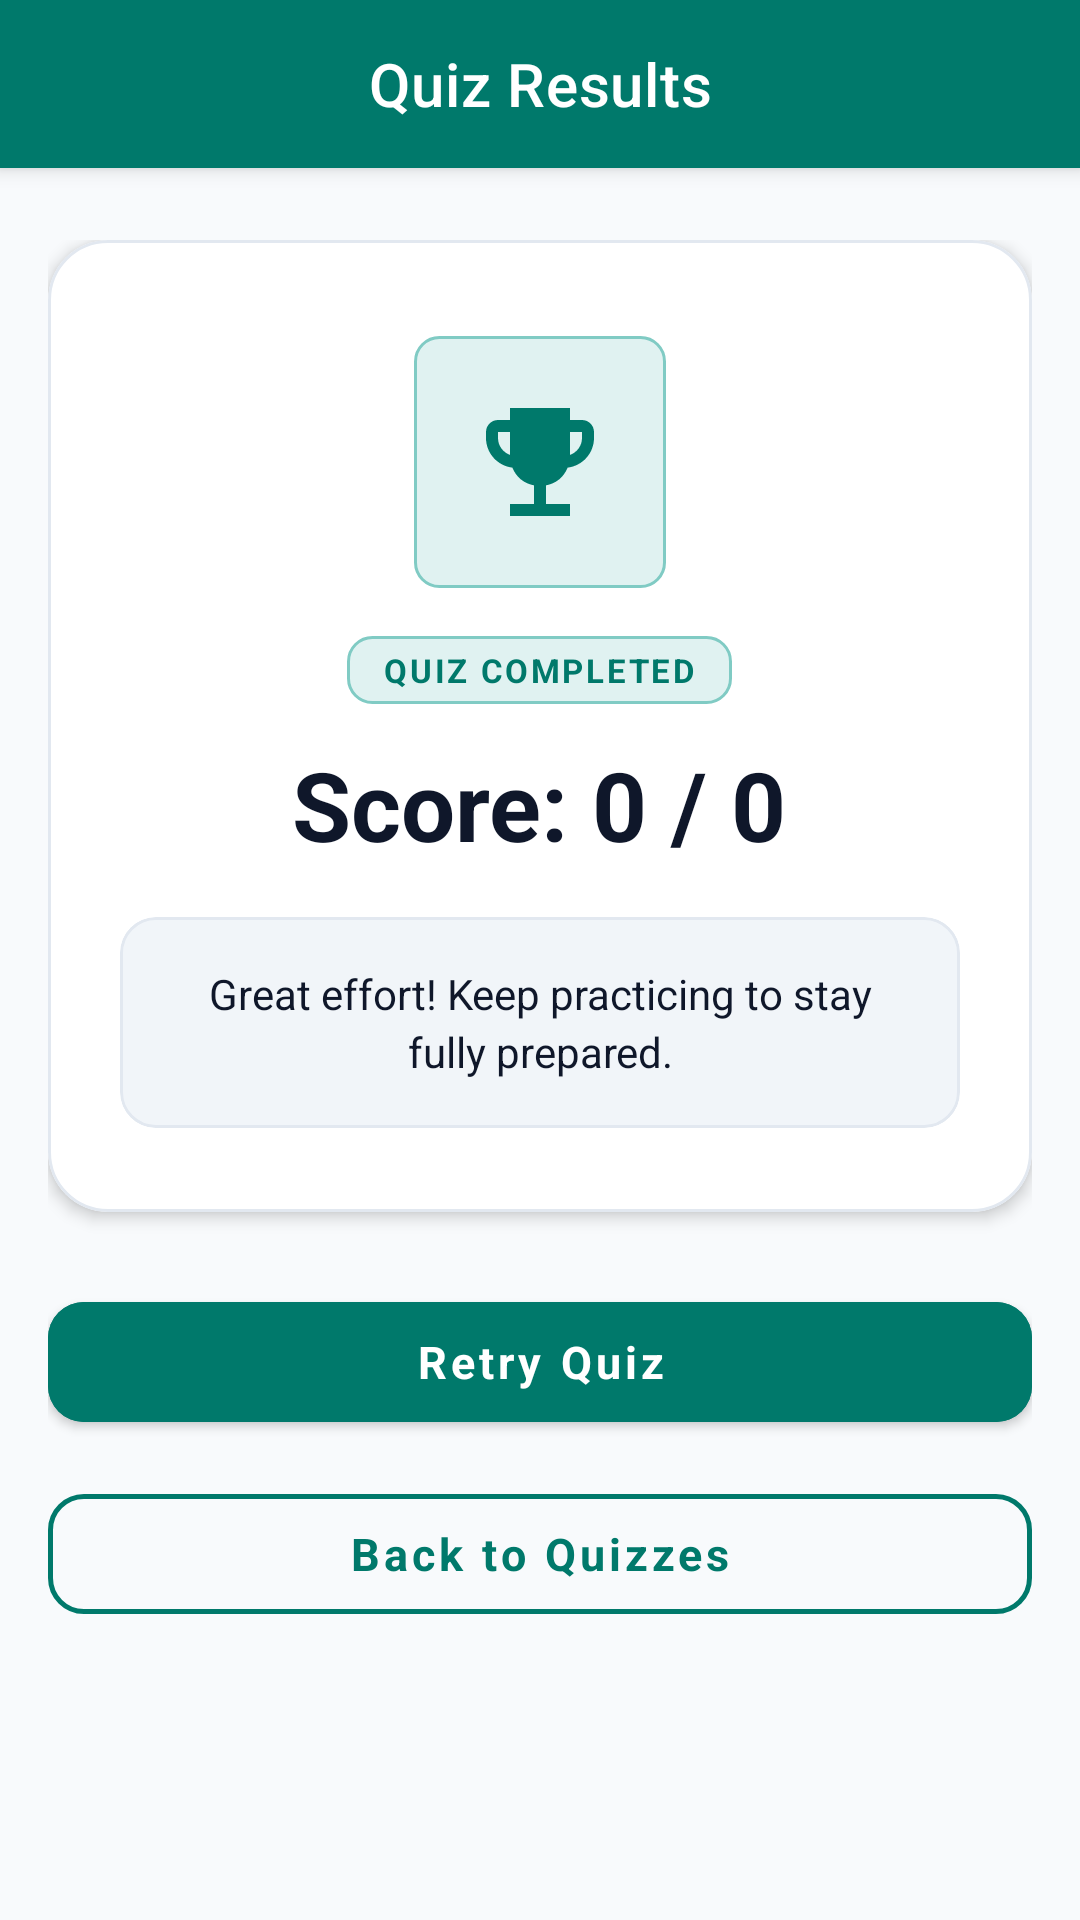

Locate icon controls on the screen. Image size 1080x1920, boxes as (x1, y1, x2, y2).
Trophy: (486, 408, 594, 516)
